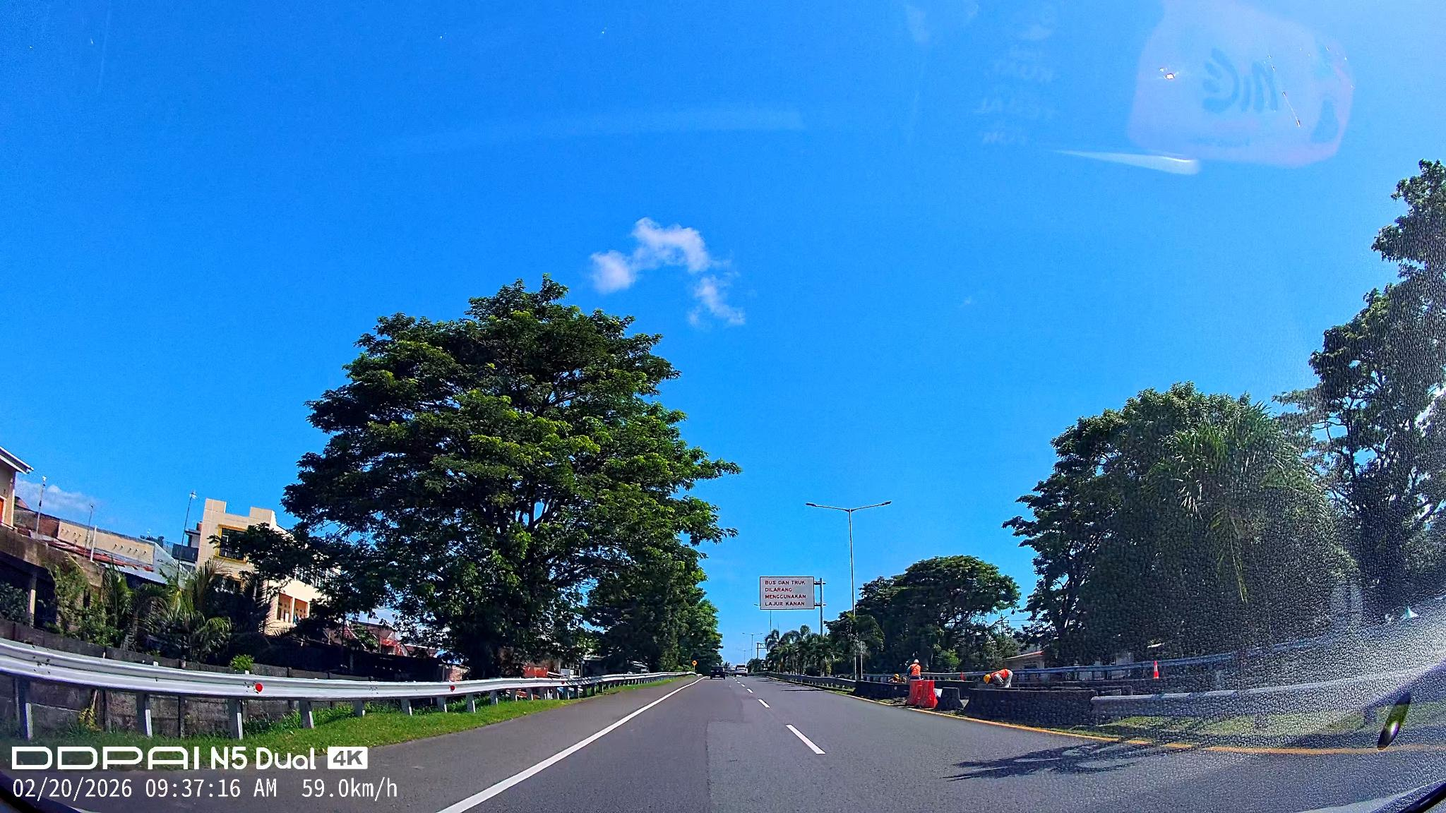rambu_teks: (759, 575, 816, 611)
